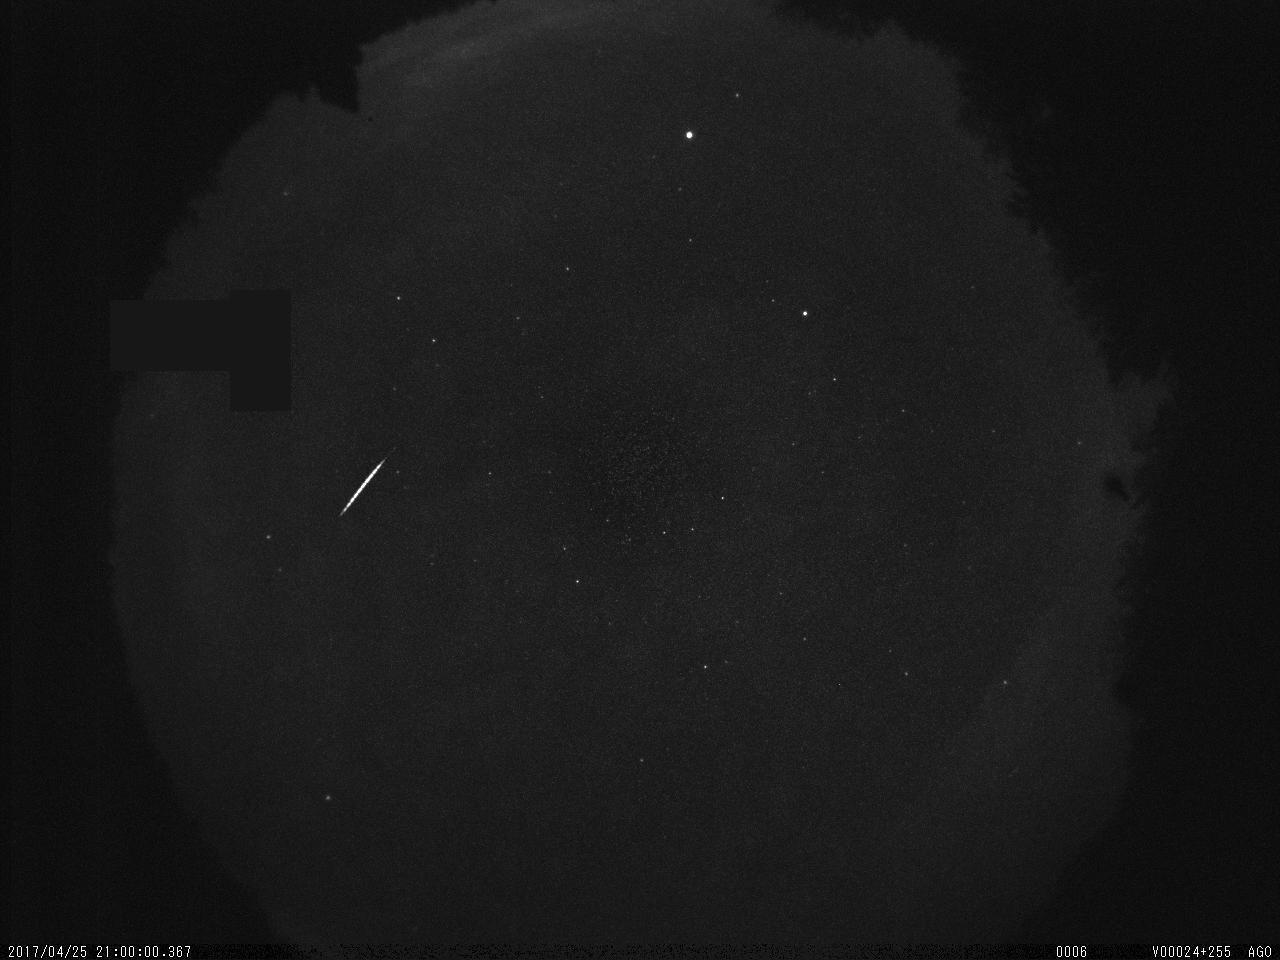meteor: (333, 453, 394, 520)
